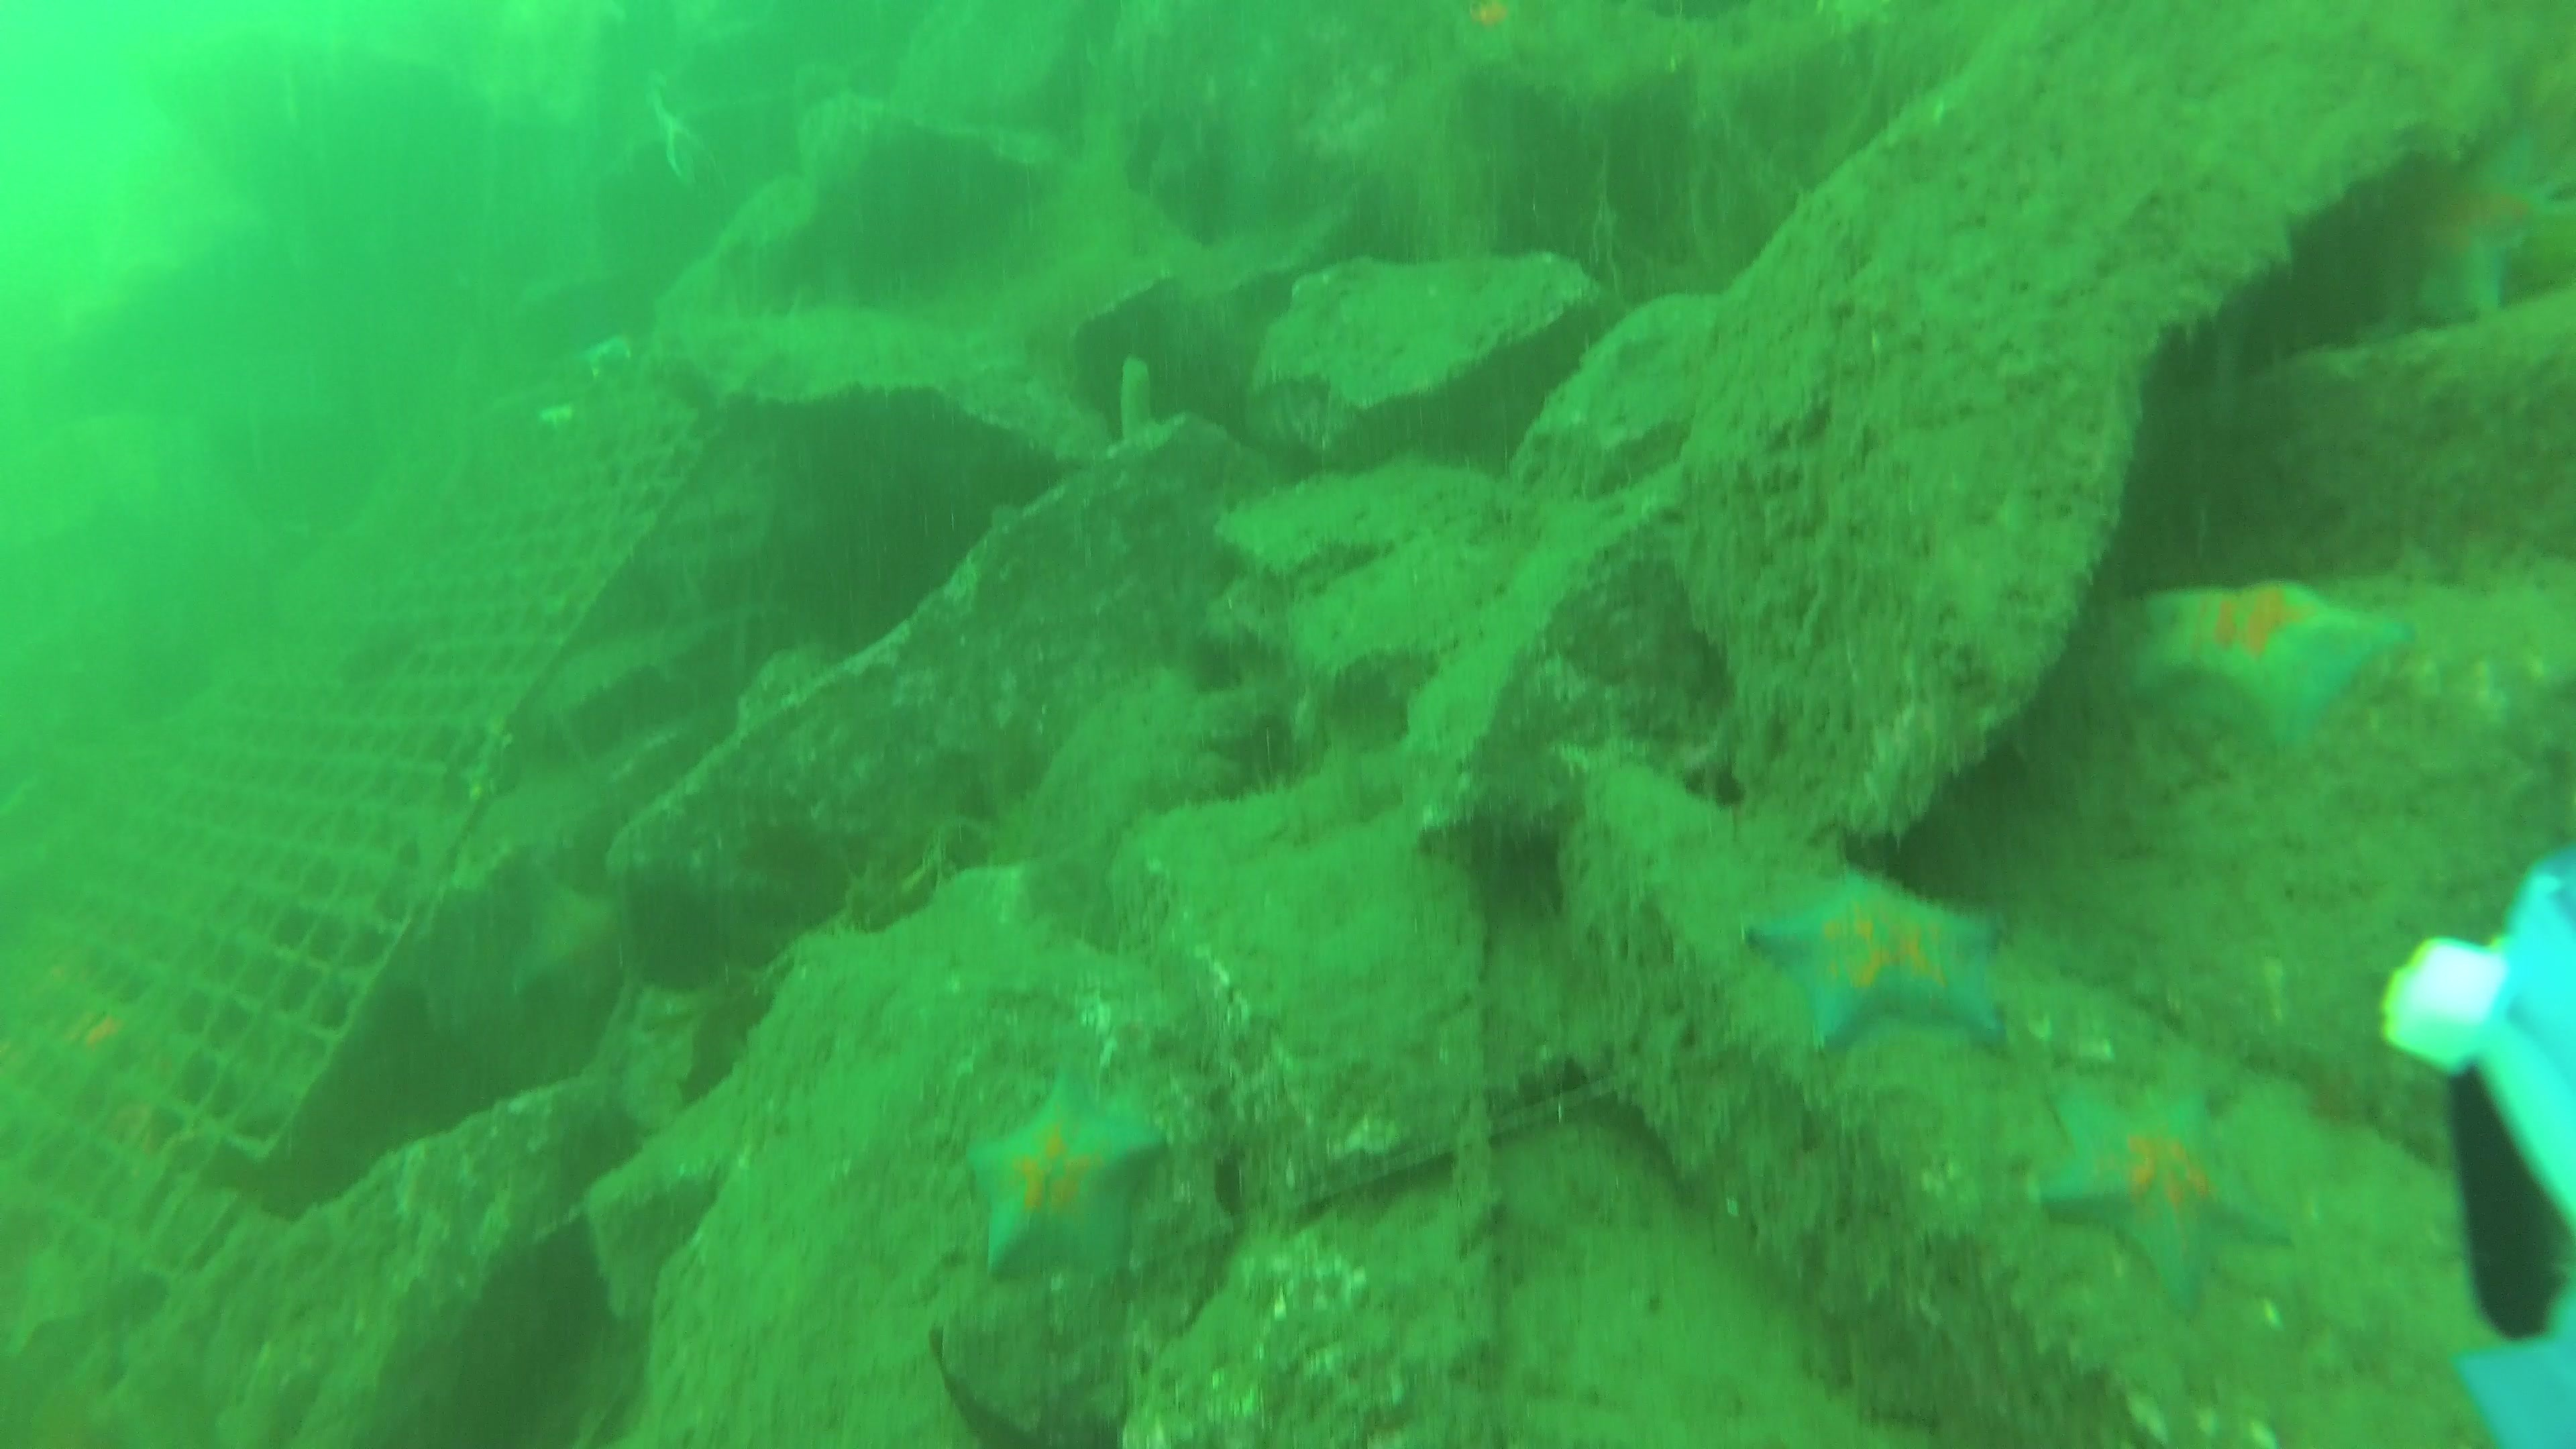starfish: (2043, 1085, 2288, 1284), (2351, 129, 2576, 341), (1759, 863, 1997, 1058), (2150, 586, 2406, 747), (975, 1079, 1155, 1274)
